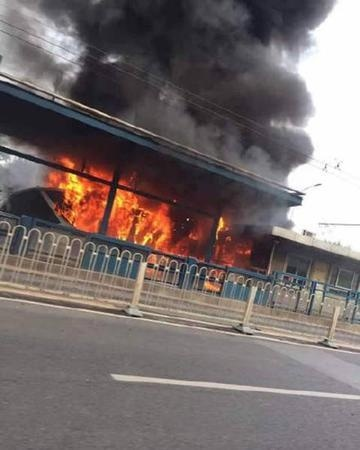fire: (47, 157, 255, 283)
